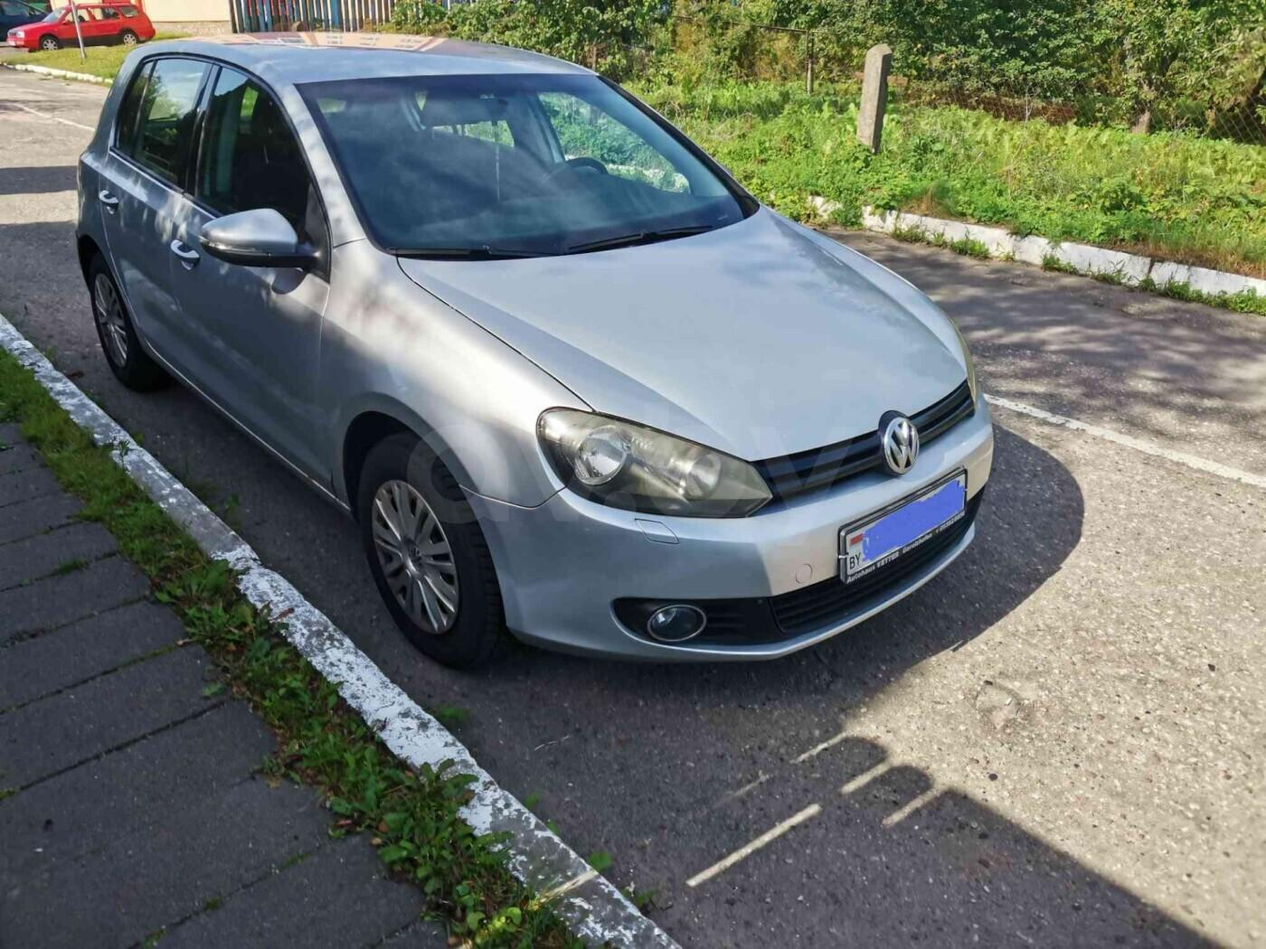Golf_2008-2013: (65, 31, 1005, 701)
